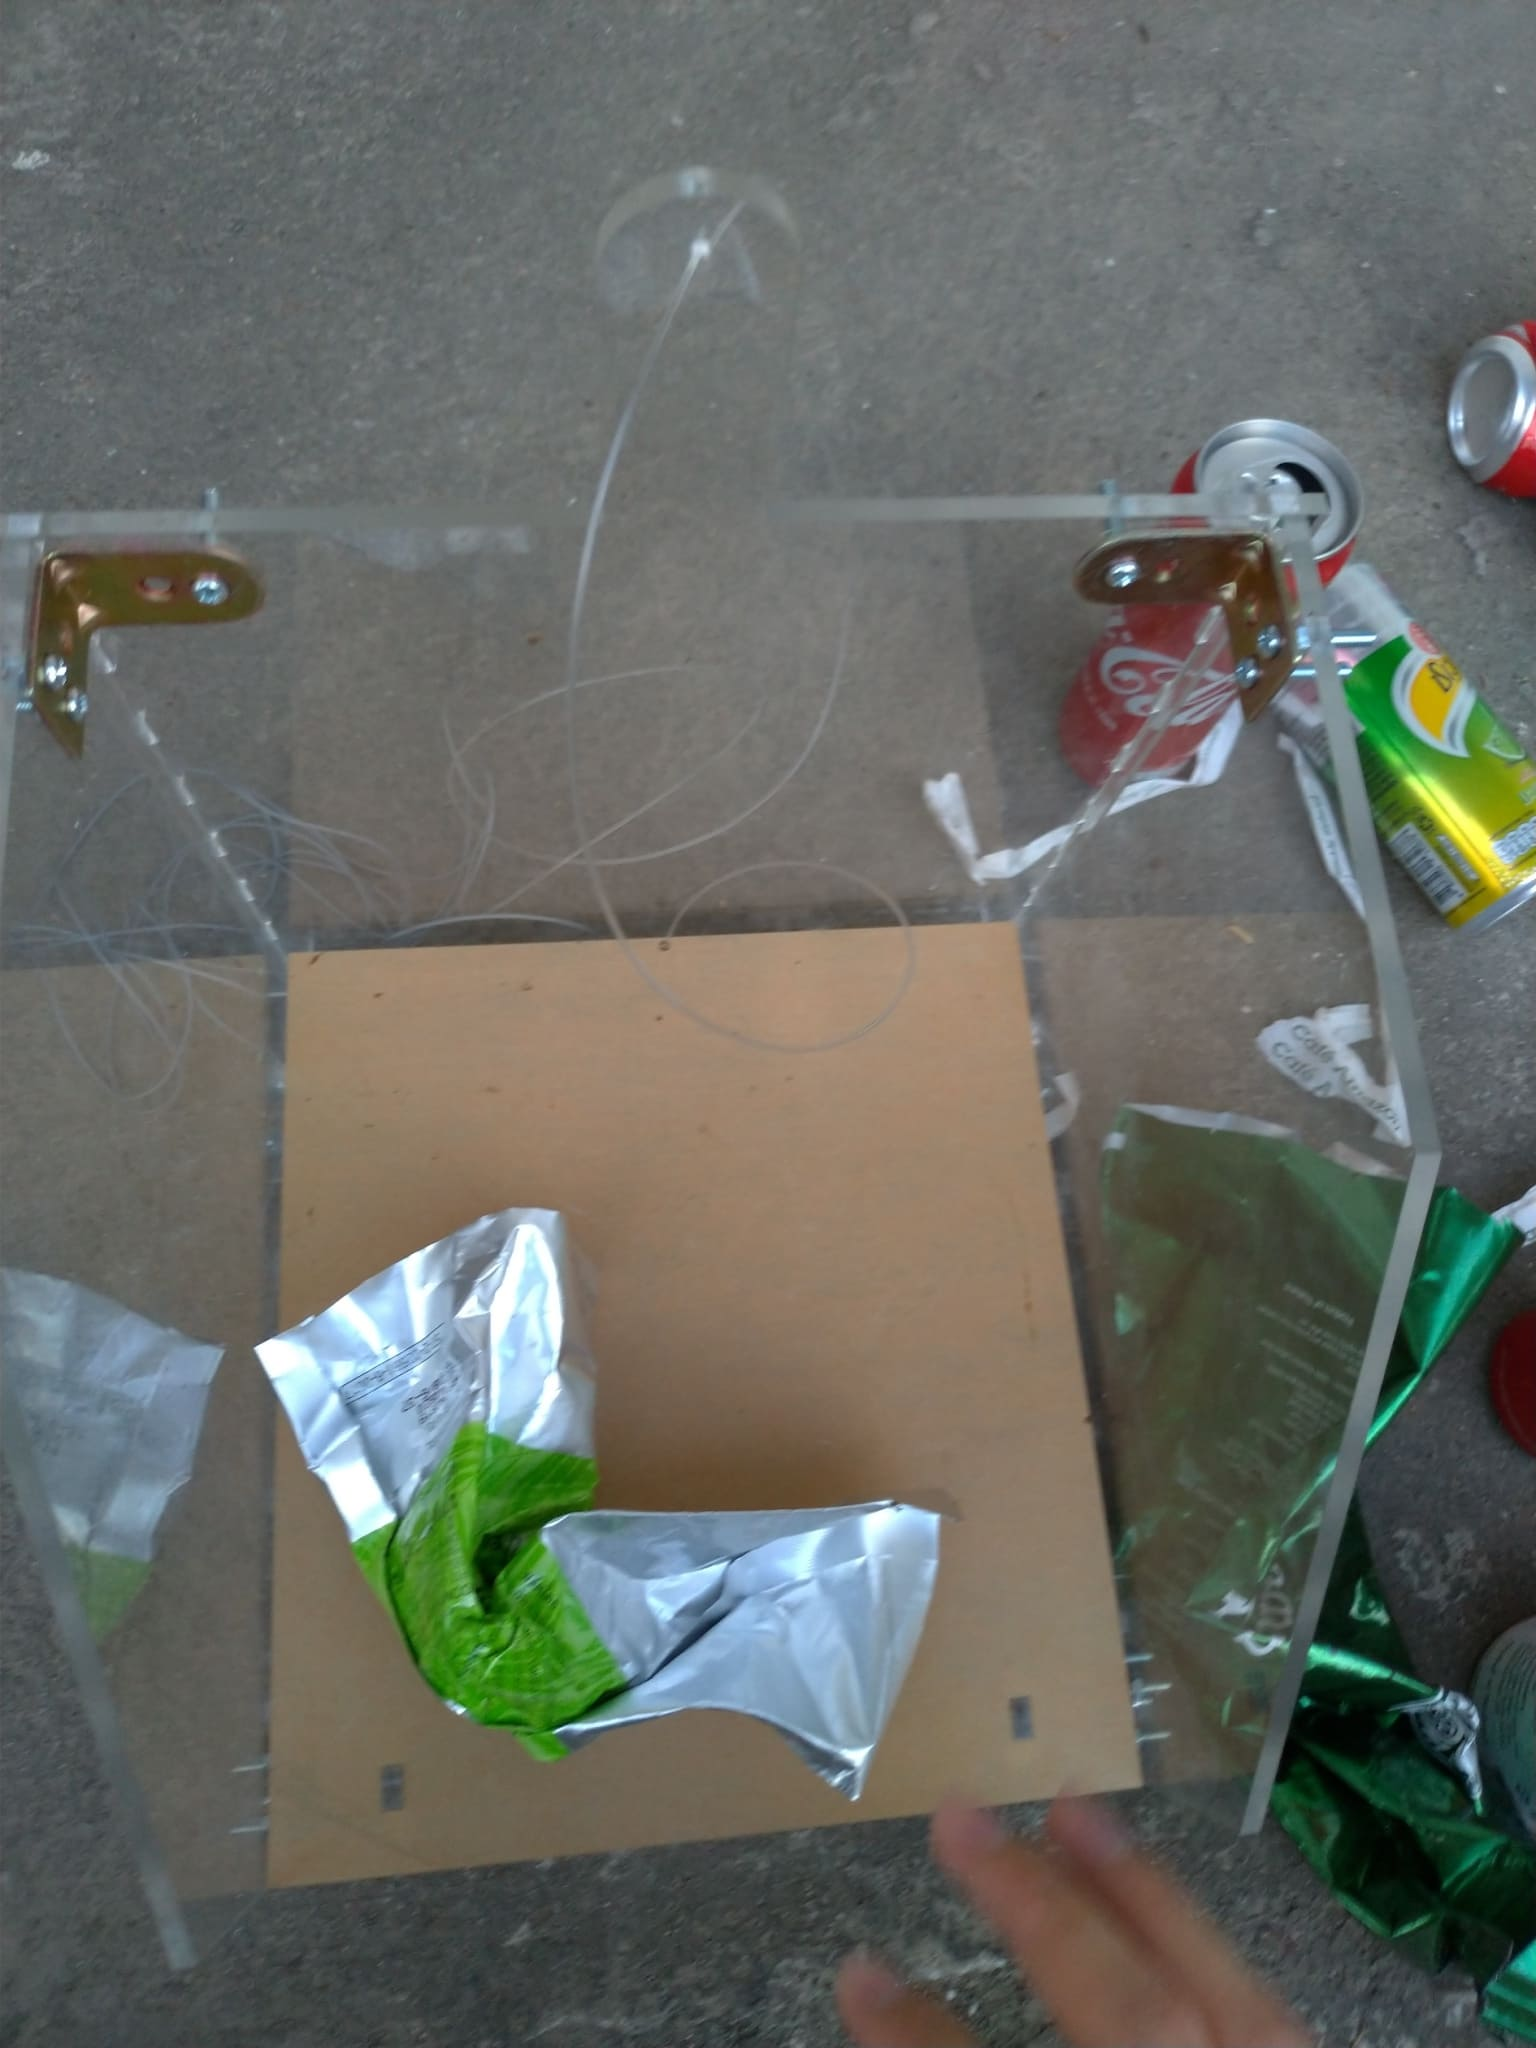AlCan: (1070, 411, 1367, 818), (1291, 569, 1536, 942), (1454, 323, 1536, 485)
Others: (253, 1192, 954, 1804), (1083, 1092, 1533, 2014)
